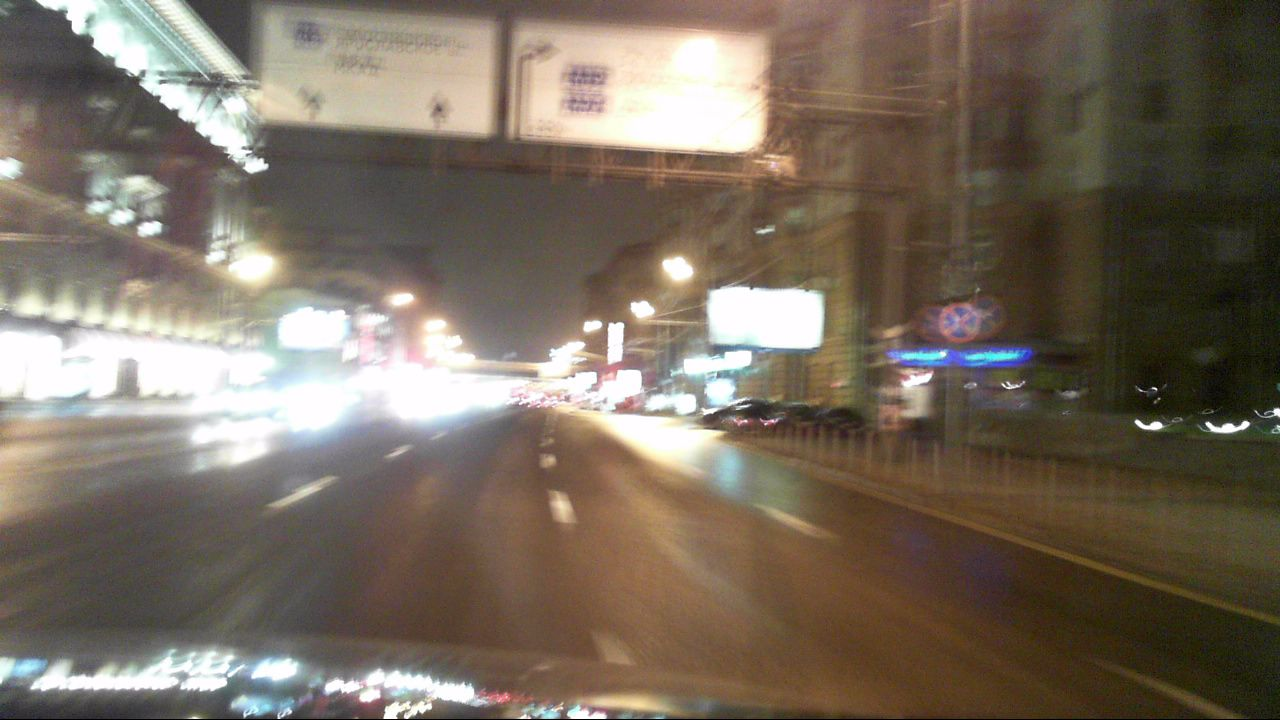No Parking: (940, 302, 980, 341)
